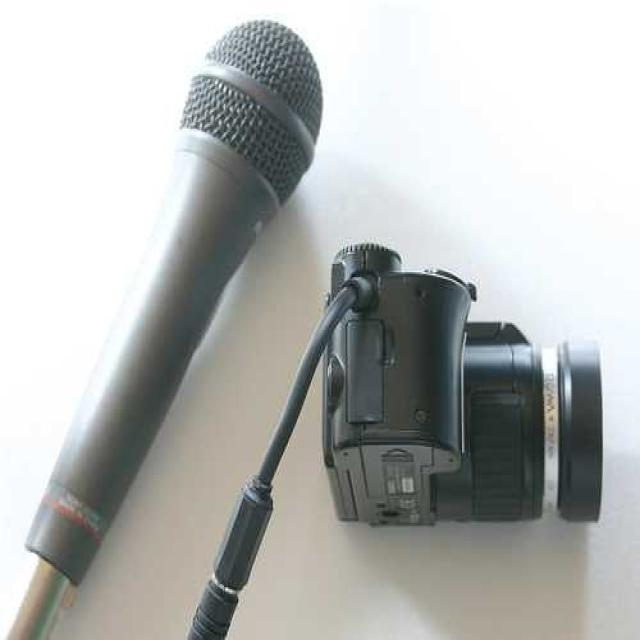microphone: (28, 23, 322, 577)
